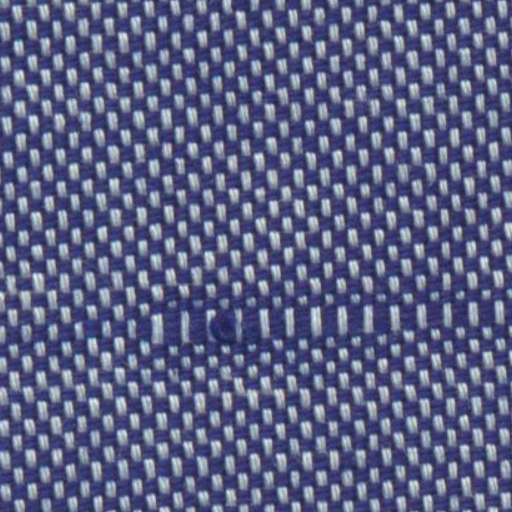DaiSha: (132, 286, 497, 354)
